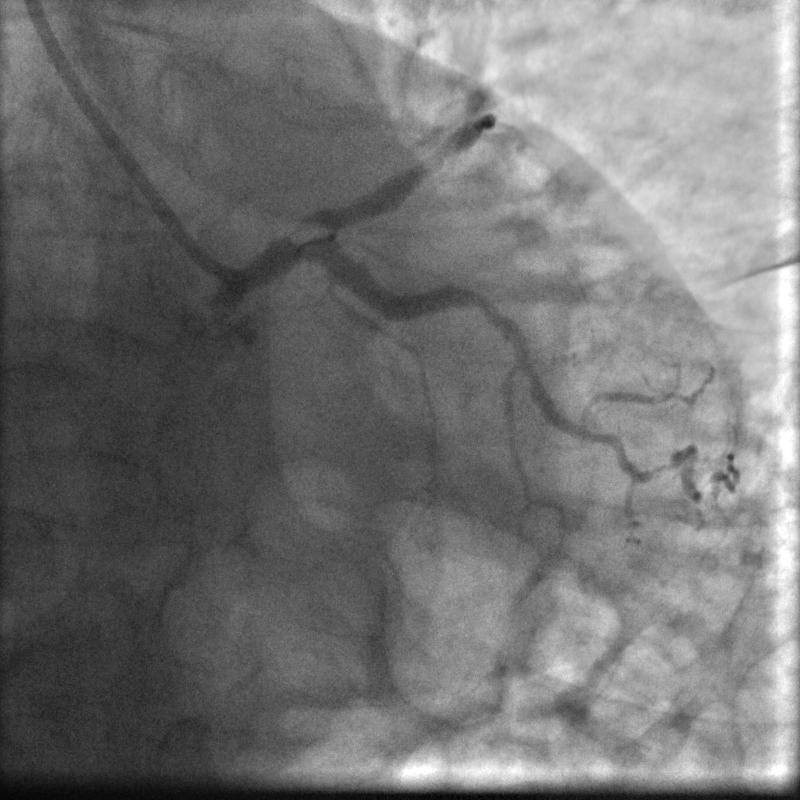Stenosis: (273, 204, 339, 255)
